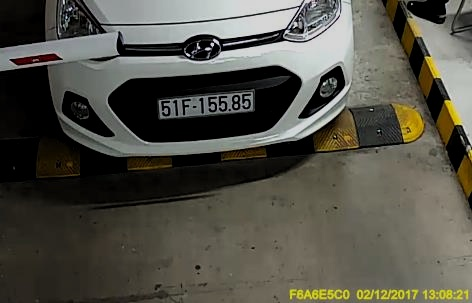plate: (158, 87, 254, 118)
